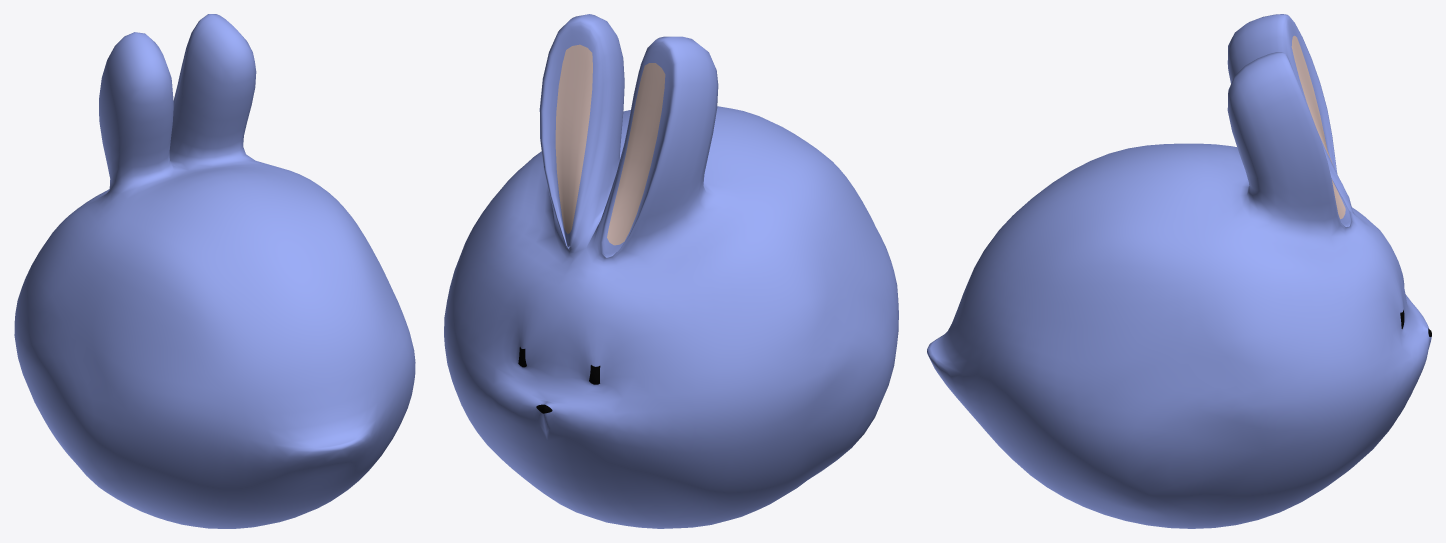
File: prey_42.glb
3 views of the same model, side by side, from view 1: azimuth 30°, elevation 25°; view 2: azimuth 150°, elevation 25°; view 3: azimuth 270°, elevation 25° (orthographic). The views are drawn at different scales.
Visible parts, largest first — view 1: Cube; view 2: Cube; view 3: Cube.
Part boxes in pixels (box(x1,y1,x2,y2)): Cube: box(14, 14, 415, 528); Cube: box(444, 14, 898, 528); Cube: box(927, 14, 1431, 528).
Size of the model in its own units: 4.03 by 5.34 by 5.15.
